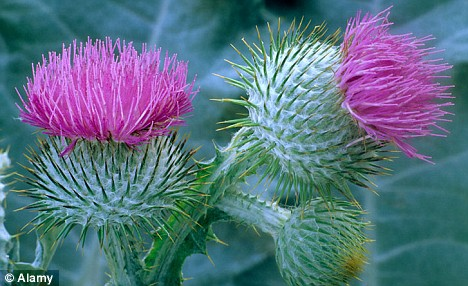thistle: (224, 12, 457, 190), (11, 39, 191, 251)
